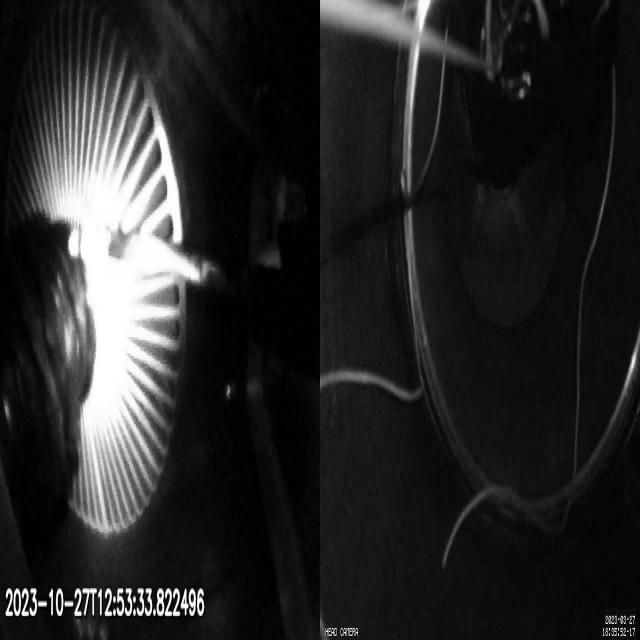white-dots: (67, 221, 109, 263)
